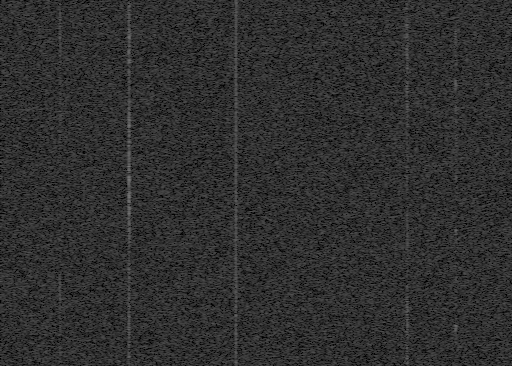wv_am: (233, 0, 239, 366)
wv_lsb: (404, 23, 410, 151), (404, 257, 410, 366), (405, 202, 410, 256), (405, 152, 410, 201), (405, 6, 410, 22), (404, 2, 409, 5)
wv_usb: (126, 1, 133, 366), (453, 12, 459, 203), (57, 263, 63, 343), (57, 3, 63, 69), (453, 311, 459, 344), (453, 223, 459, 255), (58, 225, 63, 262), (58, 105, 62, 149), (454, 269, 459, 295), (58, 80, 63, 104), (58, 344, 63, 366), (58, 154, 62, 174), (454, 204, 458, 222), (58, 177, 63, 191), (58, 196, 62, 210), (454, 256, 458, 268), (454, 348, 458, 358), (454, 3, 458, 11), (454, 359, 458, 366), (58, 215, 62, 220), (454, 296, 458, 300), (58, 221, 62, 224), (58, 211, 62, 214), (58, 192, 62, 195), (58, 74, 62, 77), (58, 70, 62, 73), (455, 306, 458, 310), (59, 150, 62, 153)
